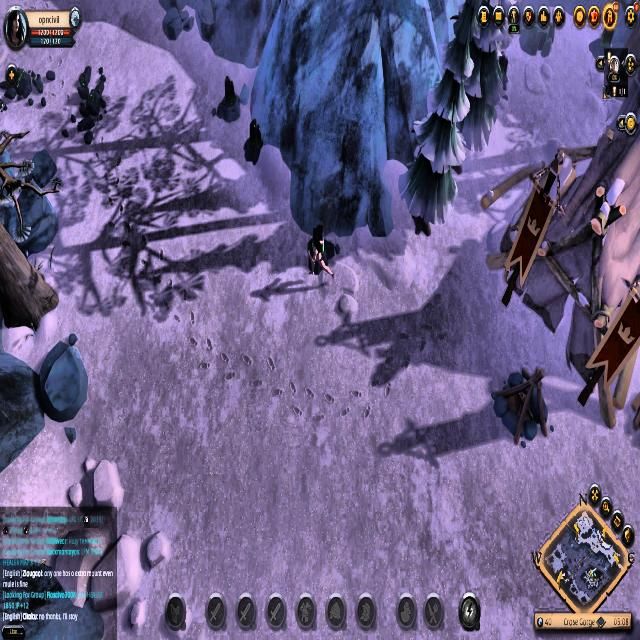tin_ore: (215, 75, 244, 126), (244, 117, 266, 167)
